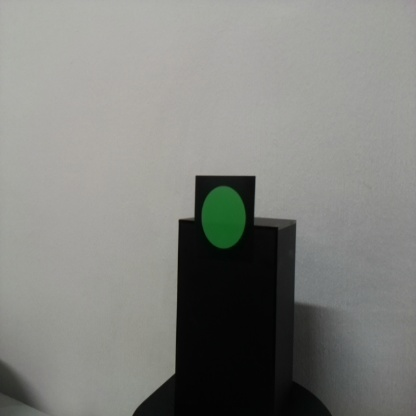id_5: (195, 176, 255, 262)
